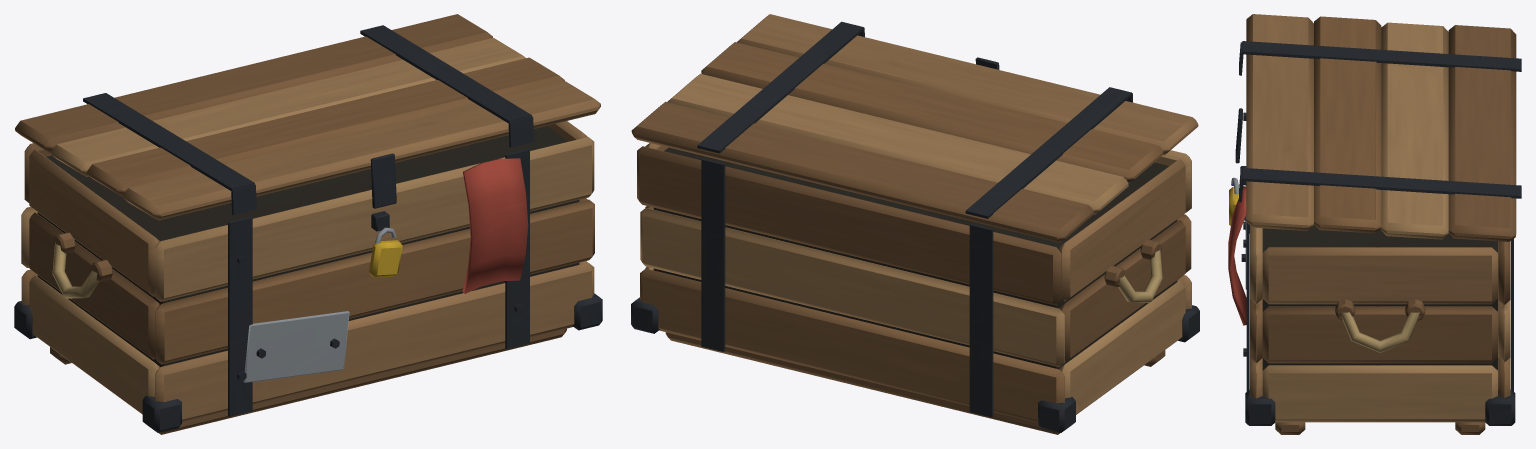
The model's file is clothes_chest.glb.
The picture shows the model from 3 angles, left to right: view 1: azimuth 30°, elevation 25°; view 2: azimuth 150°, elevation 25°; view 3: azimuth 270°, elevation 25°; orthographic projection. The views are drawn at different scales.
Visible parts, largest first — view 1: clothes_chest; view 2: clothes_chest; view 3: clothes_chest.
Part boxes in pixels (x1=…): clothes_chest: x1=14, y1=14, x2=602, y2=434; clothes_chest: x1=631, y1=14, x2=1199, y2=434; clothes_chest: x1=1228, y1=14, x2=1521, y2=434.
Size of the model in its own units: 1.06 by 0.5156 by 0.5866.
14 materials, 14 textured.
